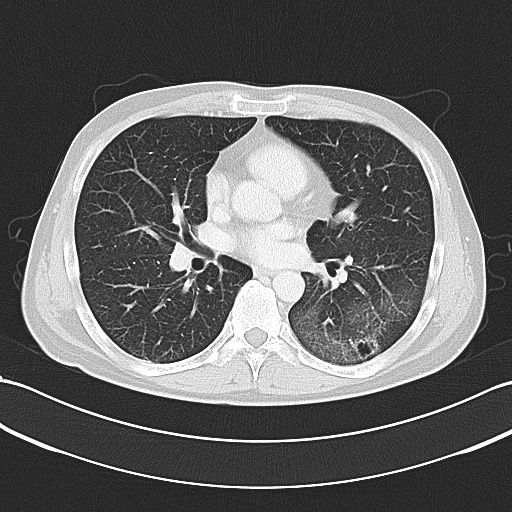Copy of non-cancer: (309, 306, 349, 335)
non-cancer: (345, 330, 385, 359)
